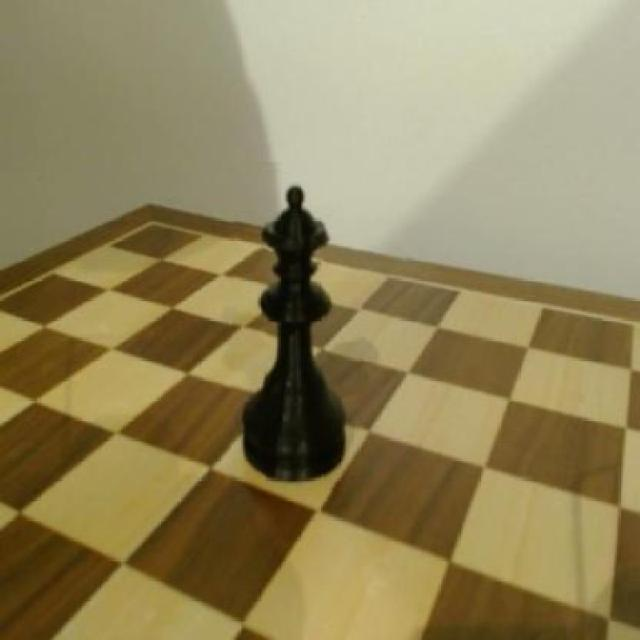black-pawn: (230, 162, 362, 490)
